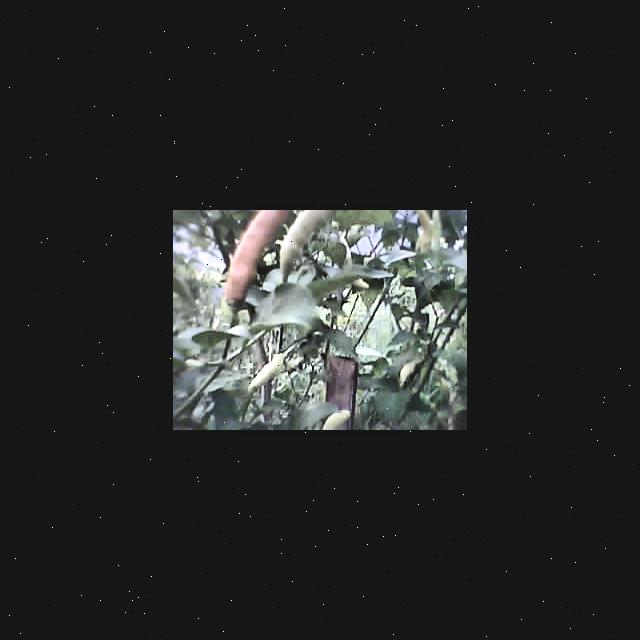Cabai: (230, 210, 276, 295)
